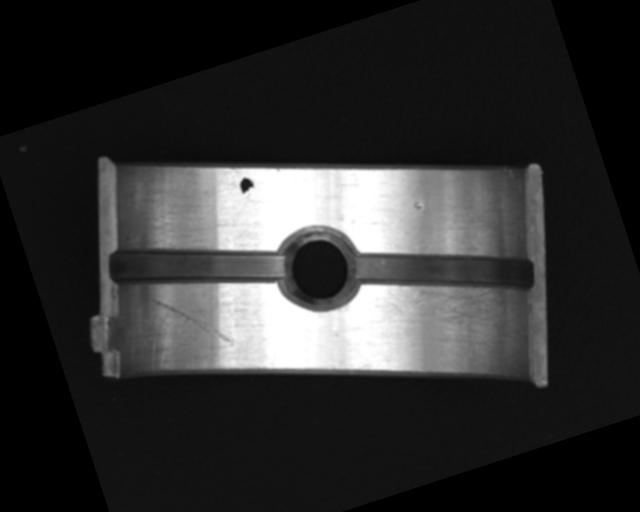blot: (236, 174, 258, 200)
bruise: (411, 199, 424, 211)
gap: (350, 205, 536, 337), (103, 202, 289, 328)
hole: (270, 216, 366, 317)
nick: (151, 279, 235, 366)
scratch: (366, 249, 529, 381)
